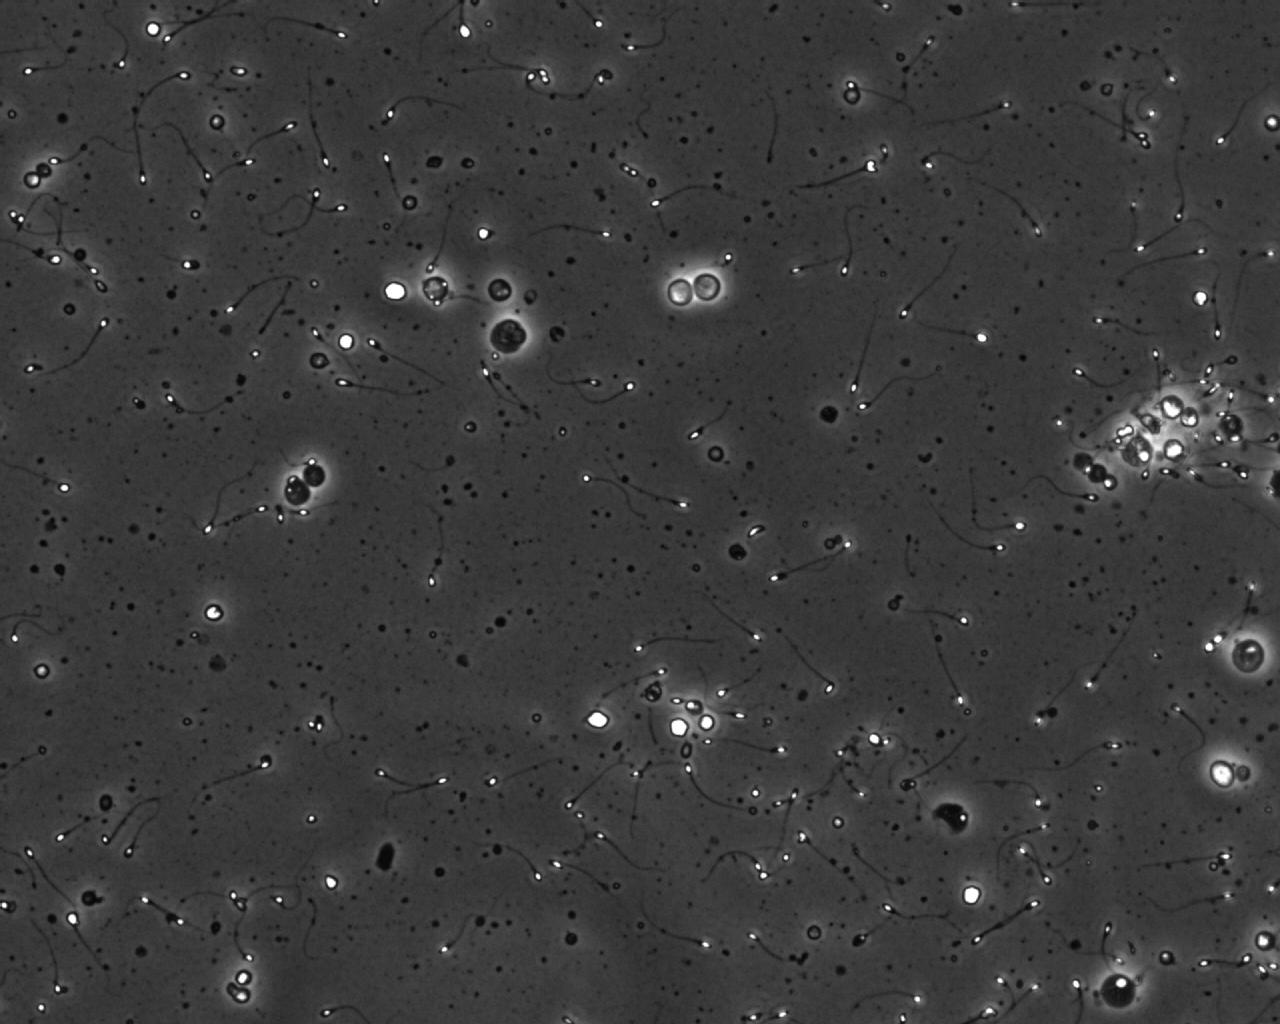cell: (481, 310, 536, 362), (1093, 964, 1143, 1016), (1224, 634, 1271, 679), (1114, 428, 1160, 473), (686, 267, 727, 307), (661, 272, 699, 312), (1206, 757, 1239, 793), (418, 272, 453, 305), (281, 475, 315, 509), (484, 274, 517, 306), (298, 460, 329, 490), (1158, 391, 1187, 423), (1250, 926, 1280, 956), (1217, 410, 1247, 440), (957, 881, 987, 910), (380, 277, 411, 305), (665, 713, 693, 743), (582, 706, 613, 732), (815, 401, 843, 428), (1176, 404, 1204, 432), (200, 600, 229, 626), (838, 84, 866, 110), (725, 539, 752, 565), (18, 167, 46, 192), (305, 348, 333, 373), (641, 679, 666, 707), (230, 965, 258, 991), (680, 695, 709, 718), (545, 321, 571, 347), (703, 441, 729, 466), (695, 709, 720, 736), (77, 885, 102, 911), (29, 658, 54, 683), (205, 109, 229, 134), (397, 190, 422, 214), (1188, 286, 1213, 310), (334, 329, 358, 354), (802, 920, 827, 945), (94, 789, 116, 816), (33, 158, 57, 181), (1233, 761, 1255, 786)
